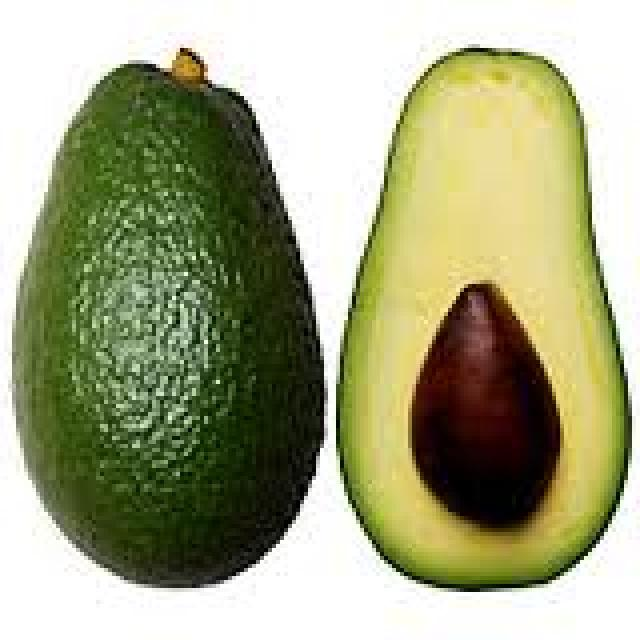avocado: (0, 28, 624, 588)
